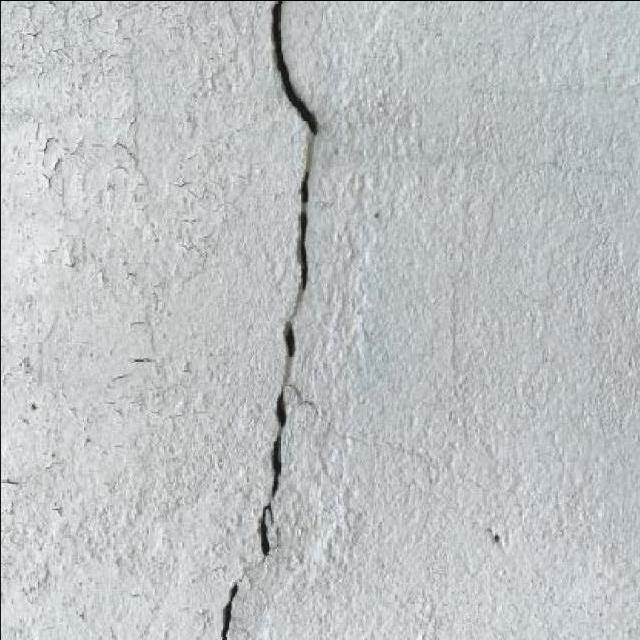Crack: (216, 0, 320, 639)
